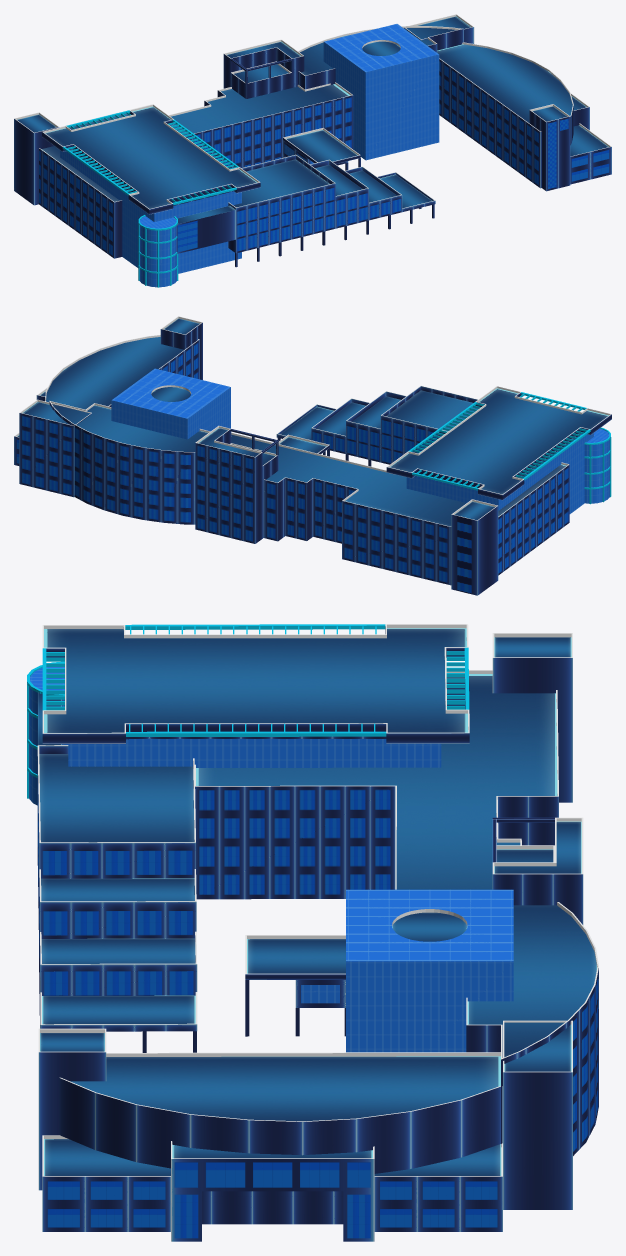
File: lou2.obj
3 views of the same model, one above another, from view 1: azimuth 30°, elevation 25°; view 2: azimuth 150°, elevation 25°; view 3: azimuth 270°, elevation 25° (orthographic). The views are drawn at different scales.
Parts seen in each view (by area): view 1: 2; view 2: 2; view 3: 2.
Part boxes in pixels (bbox=[...]): 2: bbox=[14, 14, 611, 287]; 2: bbox=[14, 316, 611, 595]; 2: bbox=[27, 624, 598, 1241].
Bounding box in the file's own units: 144 × 25.5 × 75.06.
